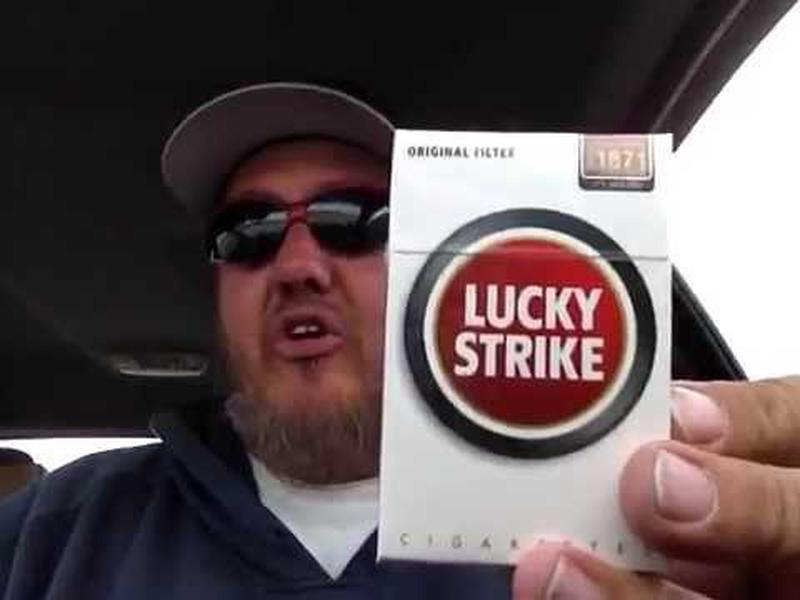lucky_strike_red: (389, 134, 672, 562)
